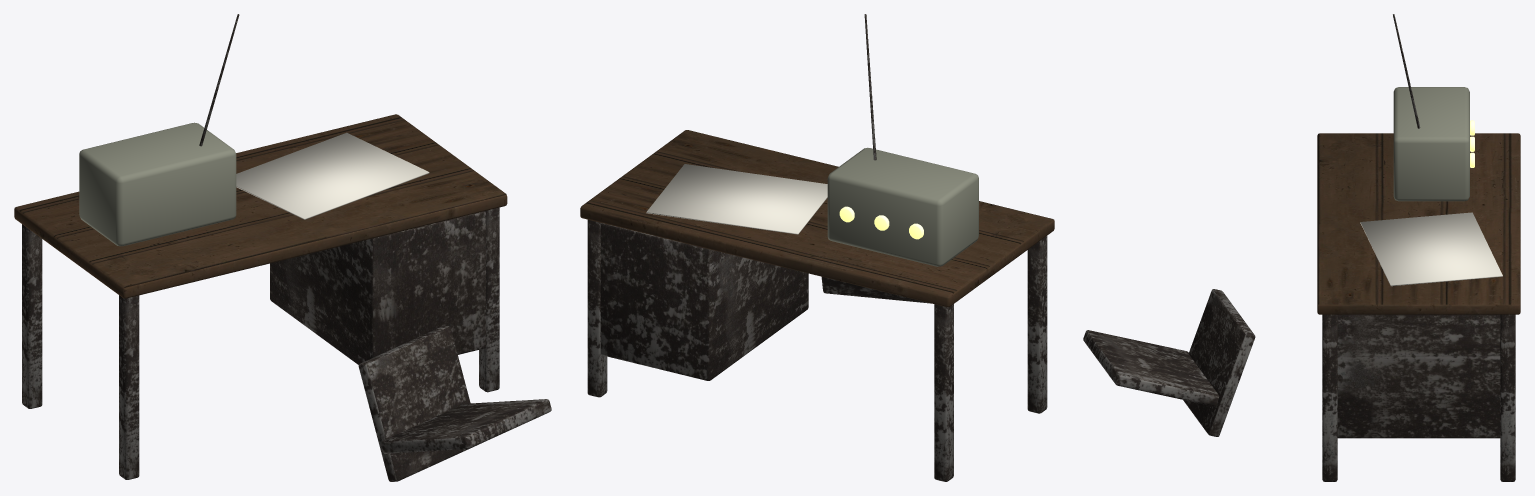
Rendered from prop_desk.glb.
3 renders of one model, left to right at view 1: azimuth 30°, elevation 25°; view 2: azimuth 150°, elevation 25°; view 3: azimuth 270°, elevation 25°, orthographic. The views are drawn at different scales.
Parts seen in each view (by area): view 1: Top, Drawers, Radio, ChairSeat, Map, ChairBack, Leg.002, Leg, Leg.003; view 2: Top, Drawers, Radio, Map, Leg.002, Leg, Leg.001, ChairSeat; view 3: Top, Drawers, Radio, Map, ChairBack, ChairSeat, Leg.001, Leg.003.
Part boxes in pixels (x1,y1,x2,y2): Top: (14,114,507,298); Drawers: (270,211,485,364); Radio: (79,122,236,246); ChairSeat: (358,326,476,481); Map: (236,132,429,219); ChairBack: (381,399,551,453); Leg.002: (119,295,139,479); Leg: (22,224,42,408); Leg.003: (479,207,499,392); Top: (580,130,1054,307); Drawers: (600,223,808,380); Radio: (827,147,978,266); Map: (646,164,827,234); Leg.002: (1027,236,1047,413); Leg: (934,304,953,481); Leg.001: (587,219,607,397); ChairSeat: (821,277,931,303); Top: (1317,133,1520,314); Drawers: (1337,314,1500,438); Radio: (1393,87,1469,201); Map: (1360,212,1502,286); ChairBack: (1083,330,1219,406); ChairSeat: (1183,289,1255,436); Leg.001: (1500,314,1515,481); Leg.003: (1322,314,1337,481).
Size of the model in its own units: 1.6 by 1.6 by 1.72.
Materials: 5 (2 with a texture image).
